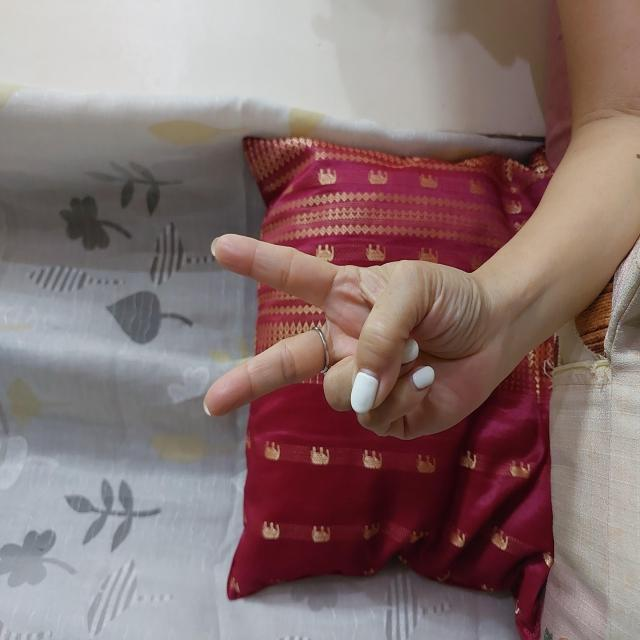V: (197, 201, 411, 499)
